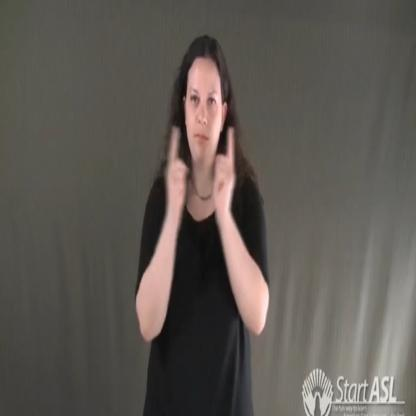NiceToMeetYou: (162, 115, 240, 229)
